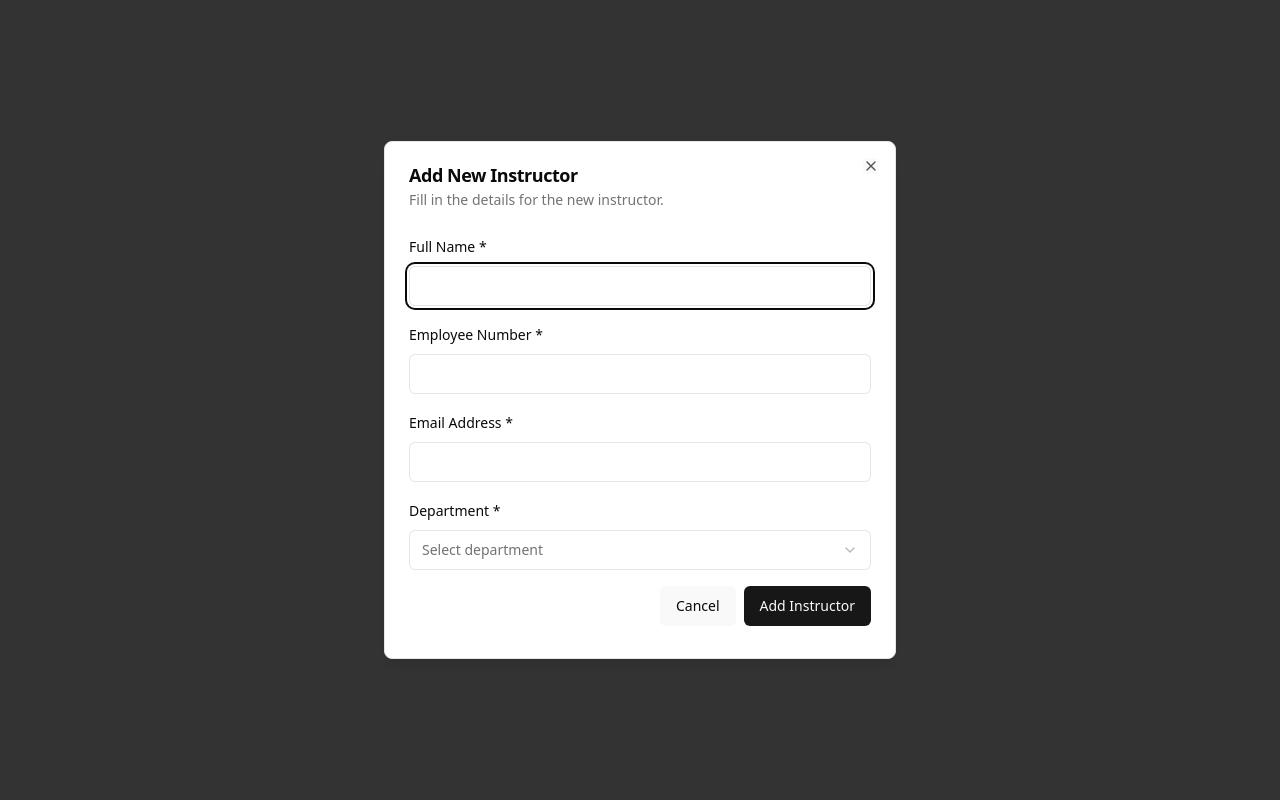
Scenario: AddInstructorModal › shows a validation error for empty fields
Click the button "Add Instructor". click: coordinates (807, 606)
box: left=744, top=586, right=871, bottom=626
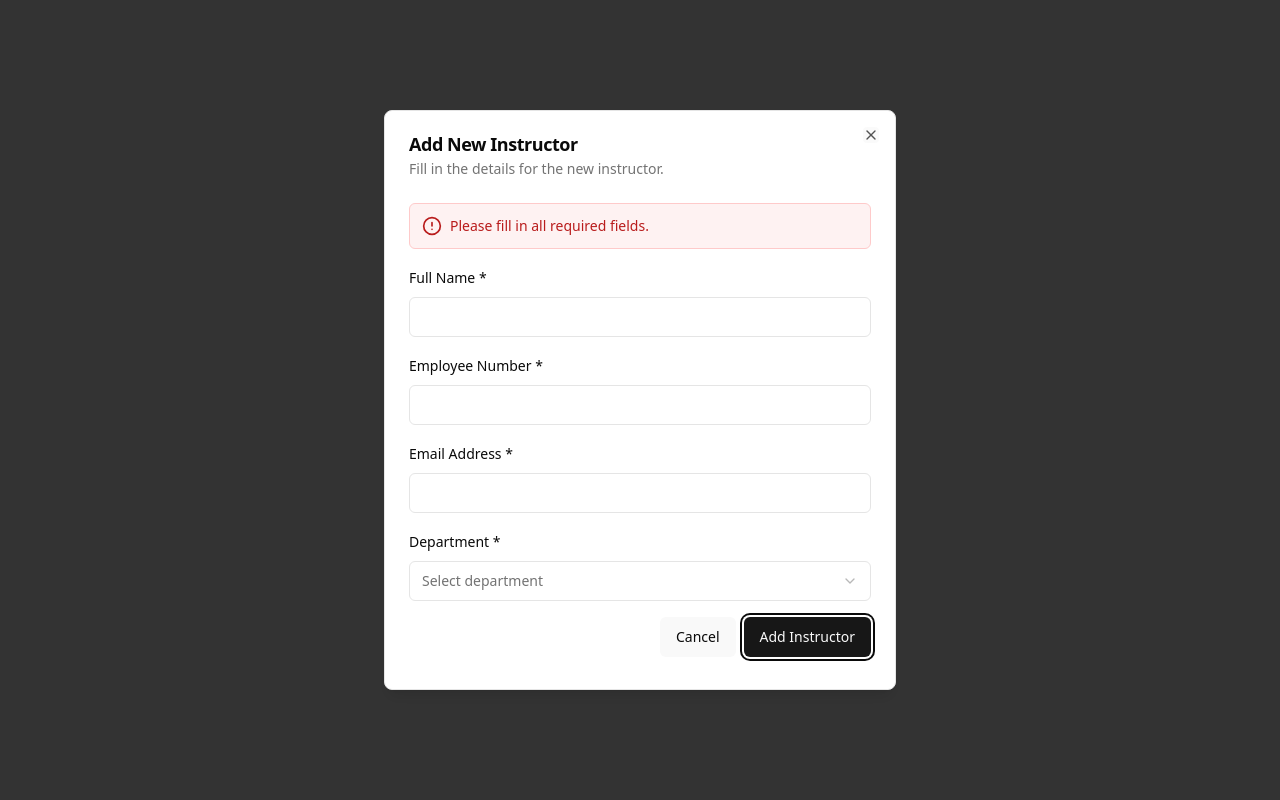
Now the text "Please fill in all required fields." is shown, box left=450, top=216, right=649, bottom=236
